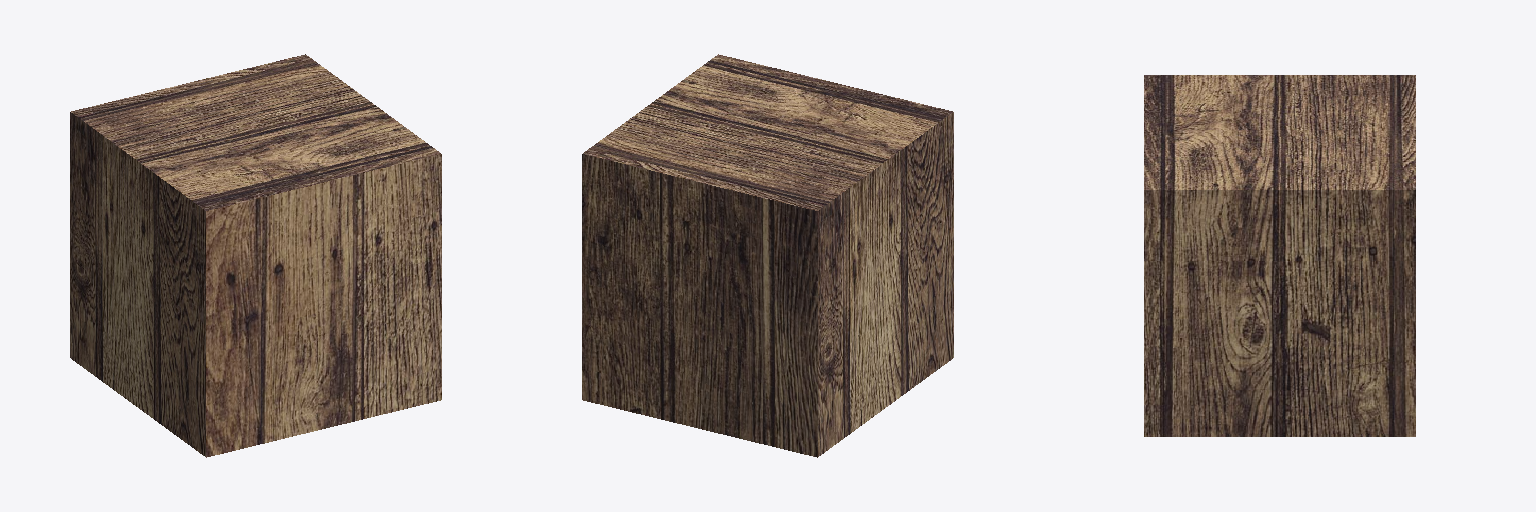
3 renders of one model, left to right at view 1: azimuth 30°, elevation 25°; view 2: azimuth 150°, elevation 25°; view 3: azimuth 270°, elevation 25°, orthographic.
Visible parts, largest first — view 1: Cube; view 2: Cube; view 3: Cube.
Boxes of the visible parts, <box> form: Cube: <box>70,54,441,457</box>; Cube: <box>582,54,953,457</box>; Cube: <box>1144,75,1415,436</box>.
Size of the model in its own units: 2 by 2 by 2.
Materials: 1 (1 with a texture image).